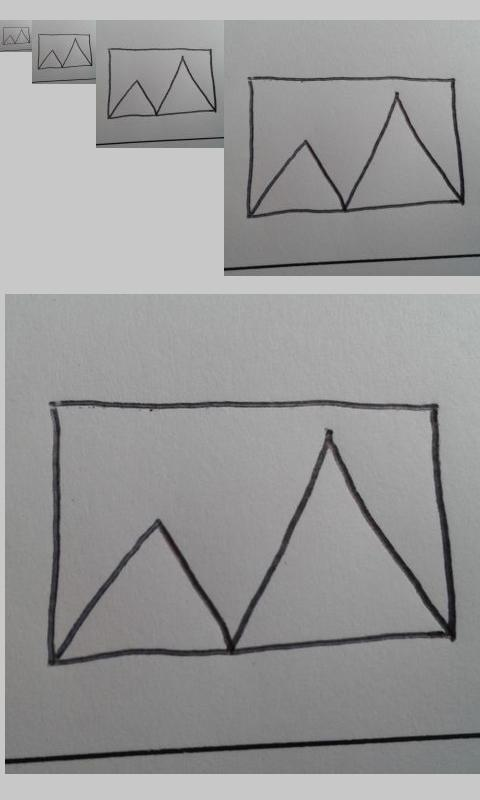image_view: (47, 396, 459, 667), (247, 75, 467, 219), (107, 46, 218, 119), (37, 33, 93, 70), (2, 26, 31, 45)
